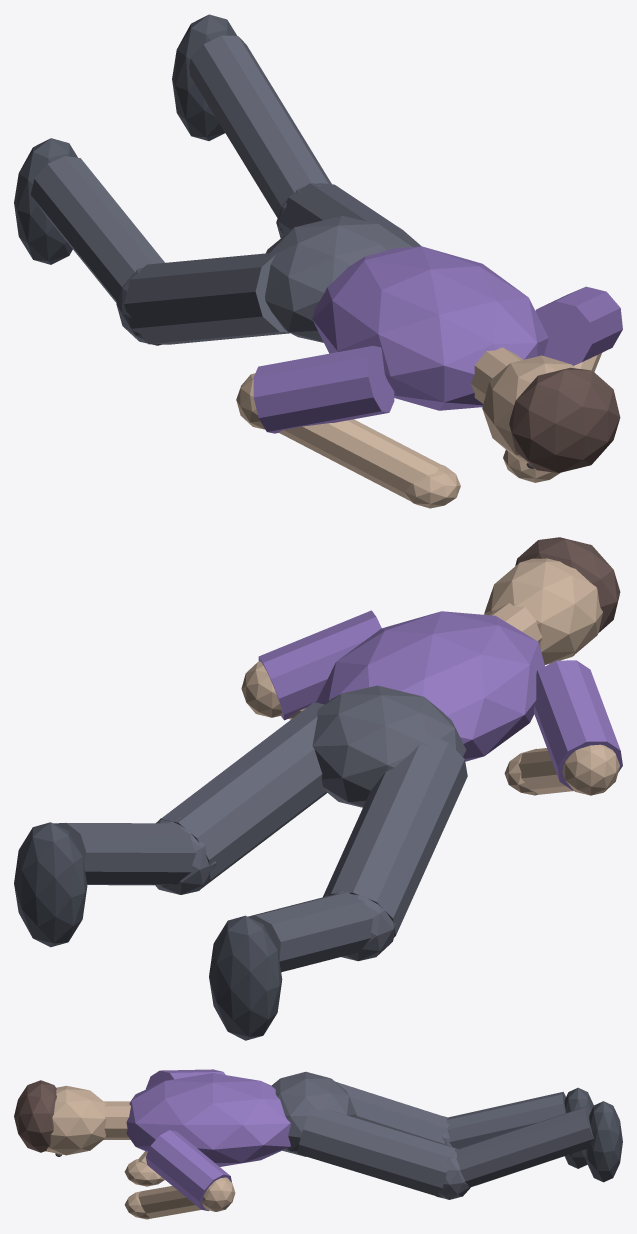
3 renders of one model, top to bottom at view 1: azimuth 30°, elevation 25°; view 2: azimuth 150°, elevation 25°; view 3: azimuth 270°, elevation 25°, orthographic. The views are drawn at different scales.
Parts seen in each view (by area): view 1: world; view 2: world; view 3: world.
Boxes of the visible parts, <box> form: world: <box>14,14,622,508</box>; world: <box>14,537,622,1040</box>; world: <box>14,1069,622,1219</box>.
Bounding box in the file's own units: 0.93 × 0.4628 × 2.04.
